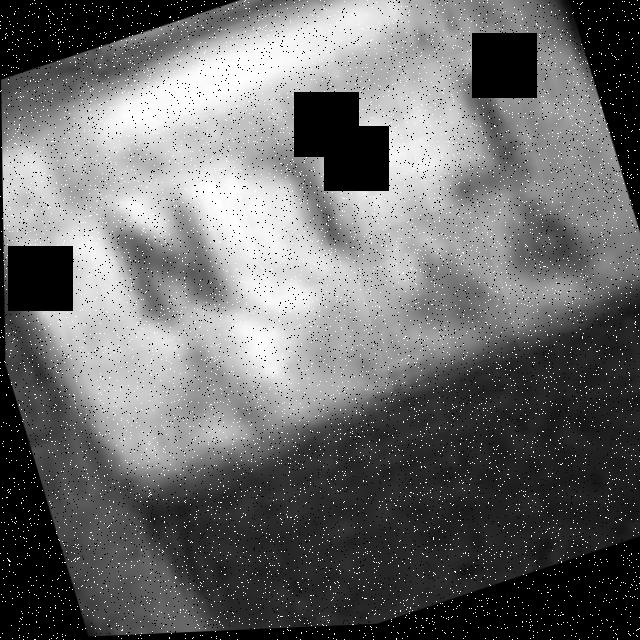4: (346, 201, 519, 397), (465, 161, 599, 331)
J: (389, 42, 545, 228)
N: (72, 153, 255, 360)
T: (222, 101, 394, 303)
